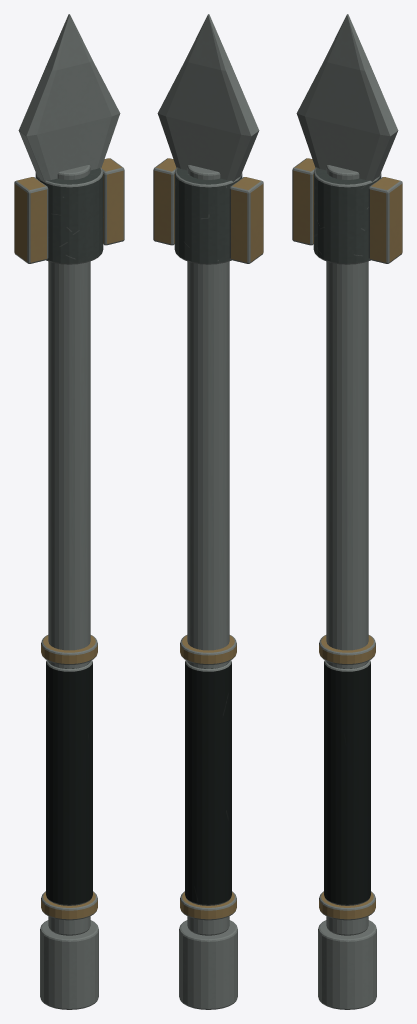
Rendered from long_spear-t4.glb.
The picture shows the model from 3 angles, left to right: view 1: azimuth 30°, elevation 25°; view 2: azimuth 150°, elevation 25°; view 3: azimuth 330°, elevation 25°; orthographic projection.
Visible parts, largest first — view 1: Steel shaft, Continuous two-hand wrap, Forged spear point, Spear socket housing, Spear rear counterweight, Socket stabilizer, Socket stabilizer.001, Grip ferrule.001, Grip ferrule; view 2: Steel shaft, Continuous two-hand wrap, Forged spear point, Spear socket housing, Spear rear counterweight, Socket stabilizer, Socket stabilizer.001, Grip ferrule.001, Grip ferrule; view 3: Steel shaft, Continuous two-hand wrap, Forged spear point, Spear socket housing, Spear rear counterweight, Socket stabilizer.001, Socket stabilizer, Grip ferrule.001, Grip ferrule.
Boxes of the visible parts, bbox=[...] form: Steel shaft: bbox=[48, 165, 90, 935]; Continuous two-hand wrap: bbox=[46, 660, 92, 905]; Forged spear point: bbox=[18, 14, 120, 181]; Spear socket housing: bbox=[35, 167, 103, 264]; Spear rear counterweight: bbox=[40, 920, 98, 1009]; Socket stabilizer: bbox=[14, 177, 48, 263]; Socket stabilizer.001: bbox=[101, 158, 124, 245]; Grip ferrule.001: bbox=[41, 635, 97, 664]; Grip ferrule: bbox=[41, 891, 97, 920]; Steel shaft: bbox=[187, 165, 229, 935]; Continuous two-hand wrap: bbox=[185, 660, 231, 905]; Forged spear point: bbox=[157, 14, 259, 181]; Spear socket housing: bbox=[174, 167, 242, 264]; Spear rear counterweight: bbox=[179, 920, 237, 1009]; Socket stabilizer: bbox=[229, 177, 263, 263]; Socket stabilizer.001: bbox=[153, 158, 176, 245]; Grip ferrule.001: bbox=[180, 635, 236, 664]; Grip ferrule: bbox=[180, 891, 236, 920]; Steel shaft: bbox=[326, 165, 368, 935]; Continuous two-hand wrap: bbox=[324, 660, 370, 905]; Forged spear point: bbox=[296, 14, 398, 181]; Spear socket housing: bbox=[313, 167, 381, 264]; Spear rear counterweight: bbox=[318, 920, 376, 1009]; Socket stabilizer.001: bbox=[368, 177, 402, 263]; Socket stabilizer: bbox=[292, 158, 315, 245]; Grip ferrule.001: bbox=[319, 635, 375, 664]; Grip ferrule: bbox=[319, 891, 375, 920].
Bounding box in the file's own units: 0.33 × 3.2 × 0.2.
4 materials, 4 textured.
